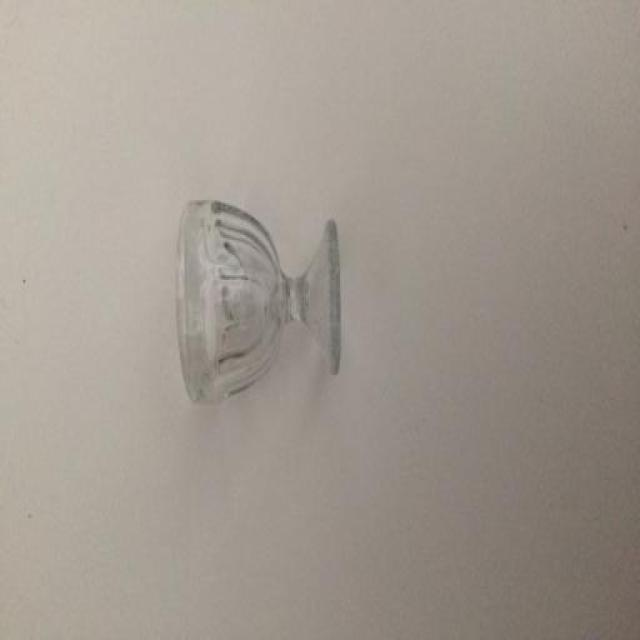Glass: (174, 197, 342, 406)
